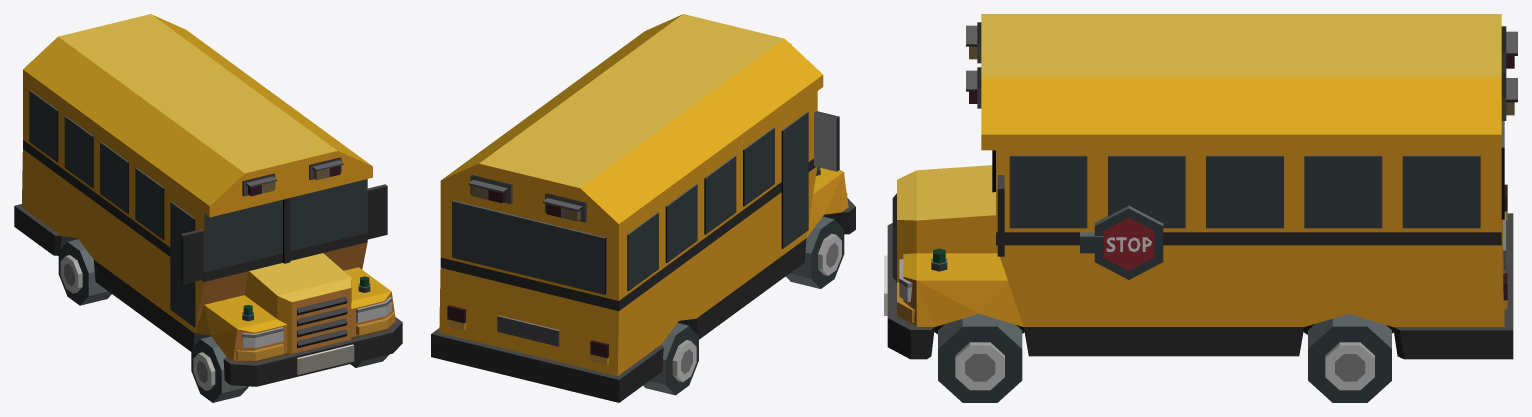
File: TB_CITY_Car_SchoolBus.FBX
The picture shows the model from 3 angles, left to right: view 1: azimuth 30°, elevation 25°; view 2: azimuth 150°, elevation 25°; view 3: azimuth 270°, elevation 25°; orthographic projection. The views are drawn at different scales.
Visible parts, largest first — view 1: TB_CITY_Car_SchoolBus, TB_Car_SchoolBus_Wheel003, TB_Car_SchoolBus_Wheel004; view 2: TB_CITY_Car_SchoolBus, TB_Car_SchoolBus_Wheel004, TB_Car_SchoolBus_Wheel003; view 3: TB_CITY_Car_SchoolBus, TB_Car_SchoolBus_Wheel001, TB_Car_SchoolBus_Wheel002.
Boxes of the visible parts, bbox=[...] form: TB_CITY_Car_SchoolBus: bbox=[14, 14, 402, 386]; TB_Car_SchoolBus_Wheel003: bbox=[58, 239, 111, 305]; TB_Car_SchoolBus_Wheel004: bbox=[191, 336, 248, 402]; TB_CITY_Car_SchoolBus: bbox=[431, 14, 855, 402]; TB_Car_SchoolBus_Wheel004: bbox=[786, 216, 844, 288]; TB_Car_SchoolBus_Wheel003: bbox=[643, 323, 698, 395]; TB_CITY_Car_SchoolBus: bbox=[884, 14, 1517, 359]; TB_Car_SchoolBus_Wheel001: bbox=[938, 313, 1022, 402]; TB_Car_SchoolBus_Wheel002: bbox=[1308, 313, 1391, 402].
Size of the model in its own units: 4.35 by 4.37 by 8.38.
